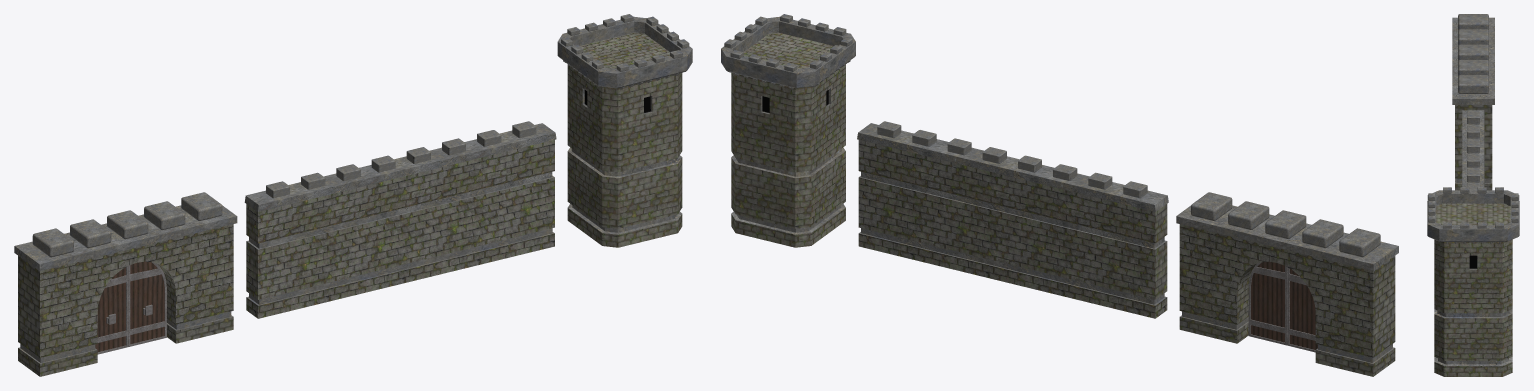
The model's file is tower_castle_walls.glb.
3 views of the same model, side by side, from view 1: azimuth 30°, elevation 25°; view 2: azimuth 150°, elevation 25°; view 3: azimuth 270°, elevation 25° (orthographic). The views are drawn at different scales.
Visible parts, largest first — view 1: Wall, Tower, Wall.001, Door_L, Door_R; view 2: Wall, Tower, Wall.001, Door_L, Door_R; view 3: Tower, Wall.001, Wall.
Part boxes in pixels (x1=…): Wall: x1=244, y1=121, x2=556, y2=318; Tower: x1=557, y1=14, x2=692, y2=247; Wall.001: x1=14, y1=192, x2=237, y2=376; Door_L: x1=128, y1=261, x2=166, y2=346; Door_R: x1=95, y1=266, x2=128, y2=354; Wall: x1=857, y1=121, x2=1168, y2=318; Tower: x1=721, y1=14, x2=855, y2=247; Wall.001: x1=1176, y1=192, x2=1398, y2=376; Door_L: x1=1248, y1=261, x2=1287, y2=345; Door_R: x1=1287, y1=267, x2=1317, y2=352; Tower: x1=1427, y1=187, x2=1519, y2=376; Wall.001: x1=1452, y1=14, x2=1494, y2=190; Wall: x1=1462, y1=110, x2=1484, y2=190.
Size of the model in its own units: 25.88 by 7.01 by 3.78.
Materials: 4 (4 with a texture image).
